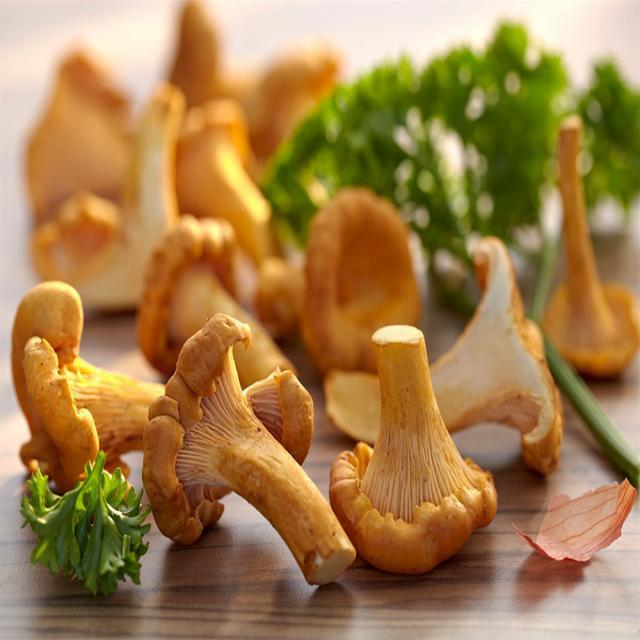Cantharellus cibarius: (17, 282, 316, 473), (325, 236, 568, 464), (151, 312, 354, 583), (333, 324, 499, 568), (548, 113, 640, 372)
